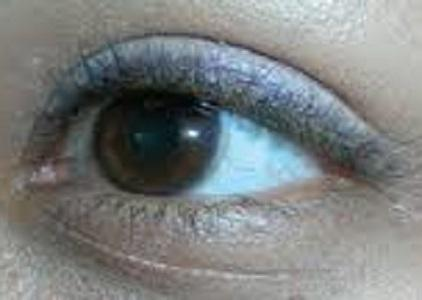open: (6, 8, 422, 300)
